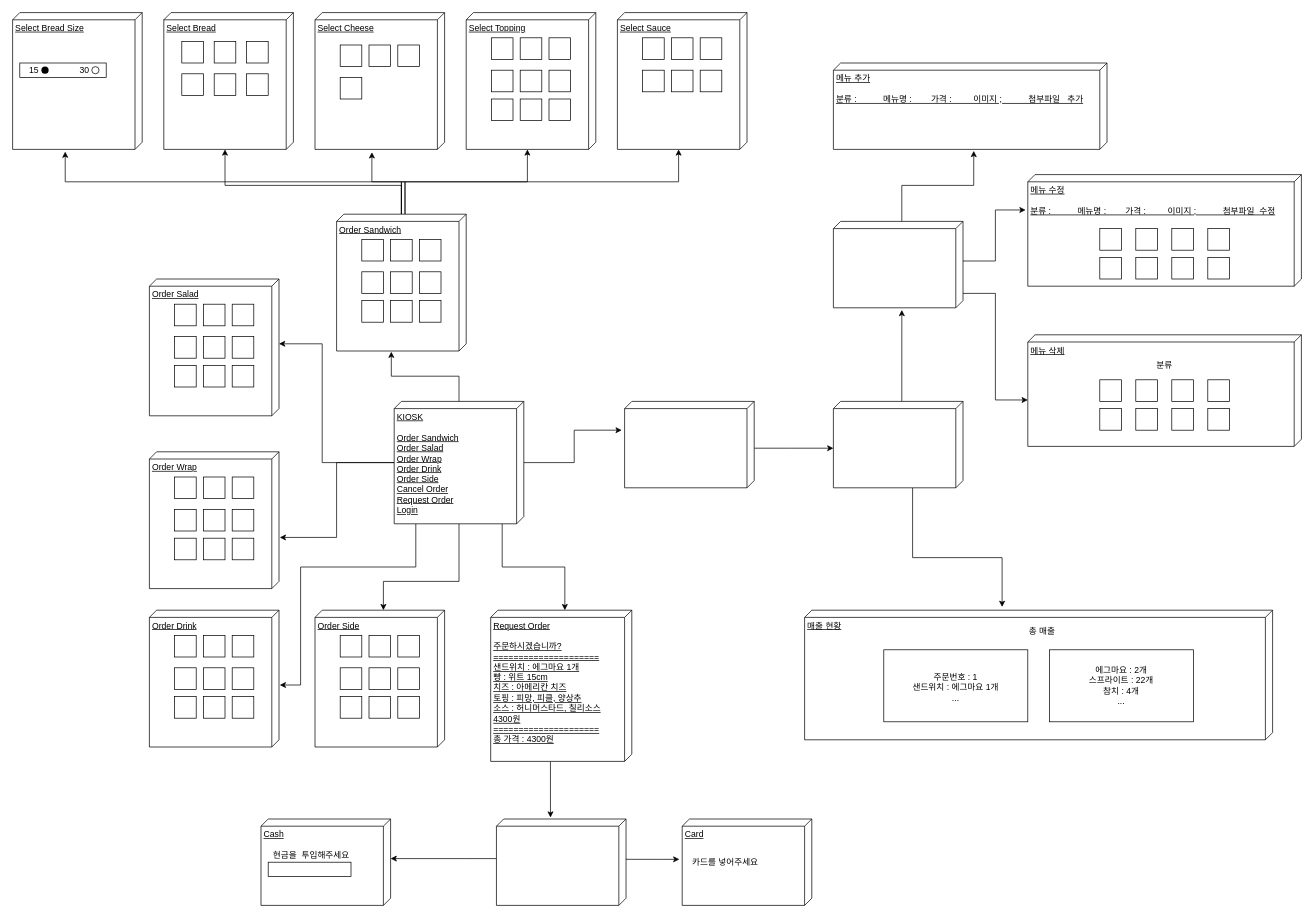
The diagram is 1314 pixels wide and 918 high, and some of its shapes have lost their labels. The shapes that lost their labels are listed below. From the top down, each one's centre as x and y in pixels, then its label:
At point (898, 264): "메뉴 관리 메뉴 추가 메뉴 수정 메뉴 삭제 뒤로가기 로그아웃".
At point (689, 444): "Login ID : ________ PW :".
At point (898, 444): "관리자 모드 메뉴 관리 매출 현황 로그 아웃".
At point (561, 861): "Payment Cash Card Back to menu".
